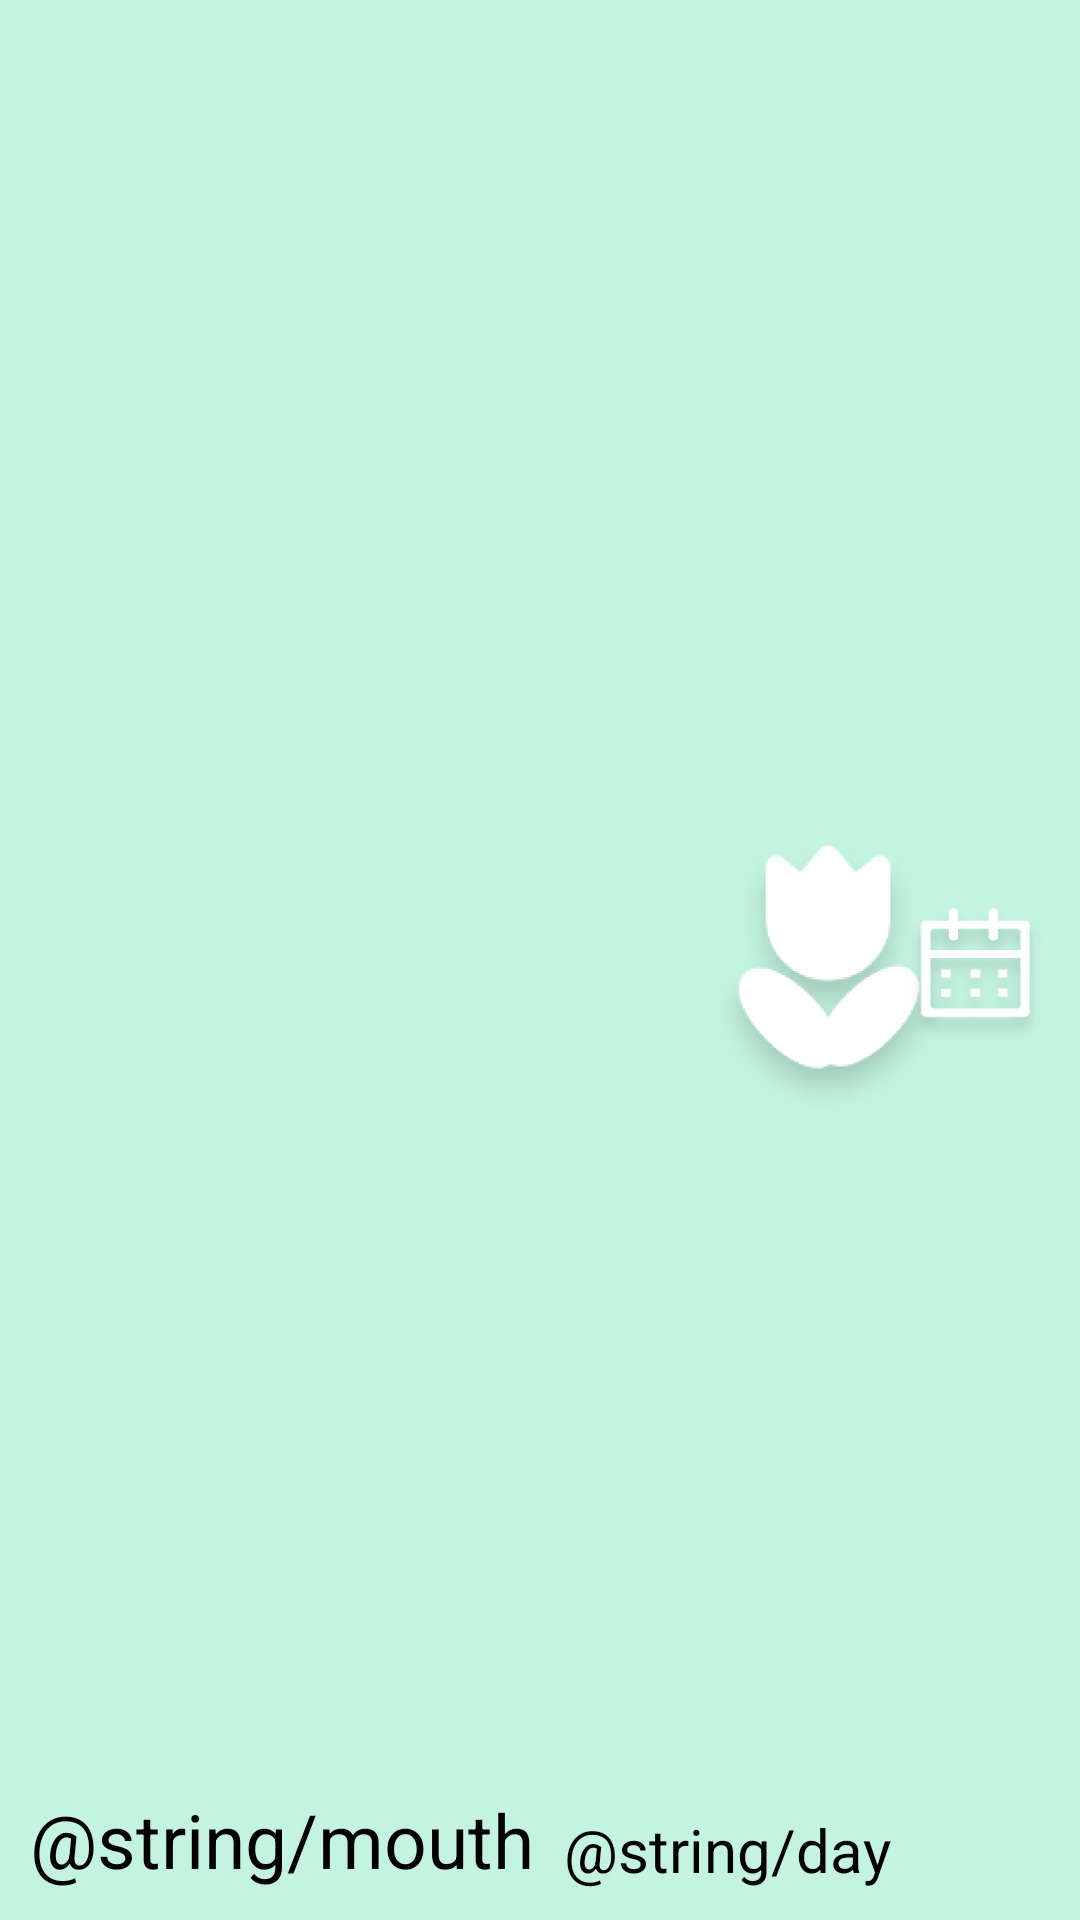

Locate icon controls on the screen. Image size 1080×1920, boxes as (x1, y1, x2, y2).
calendar: (900, 908, 1030, 1040)
